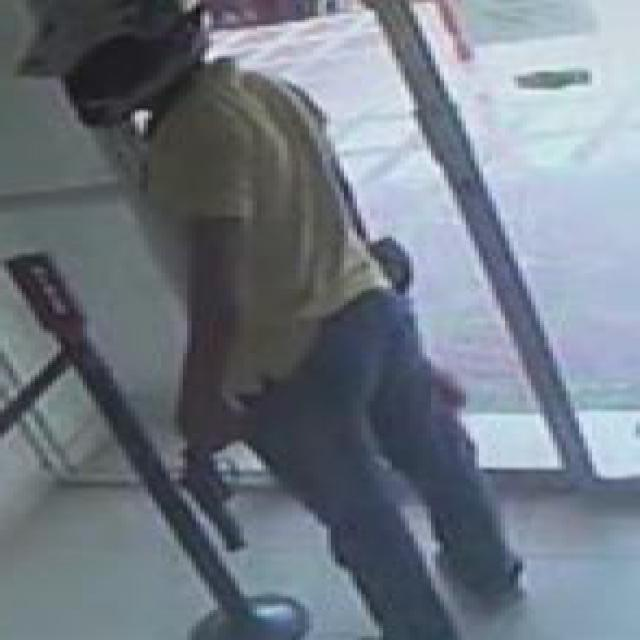Gun: (170, 415, 262, 552)
